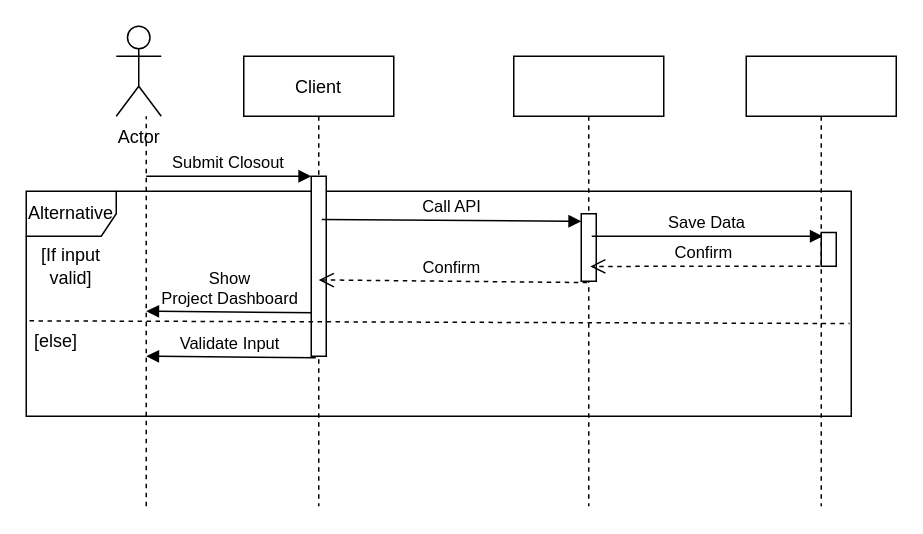
The diagram is 923 pixels wide and 534 high, and some of its shapes have lost their labels. Each missing label, with the box of its shape:
Data Base: (745, 55, 896, 506)
Server: (512, 55, 664, 506)
